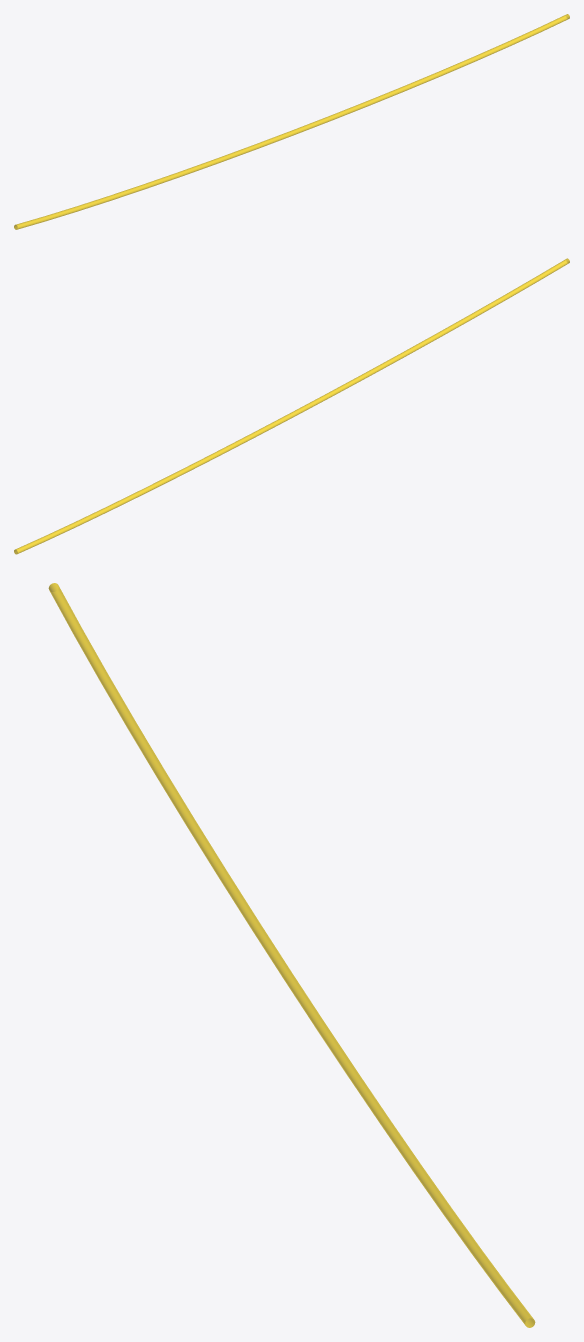
The model's file is Event_17758602_track_166.fbx.
3 renders of one model, top to bottom at view 1: azimuth 30°, elevation 25°; view 2: azimuth 210°, elevation 25°; view 3: azimuth 270°, elevation 25°, orthographic. The views are drawn at different scales.
Parts seen in each view (by area): view 1: Model; view 2: Model; view 3: Model.
Boxes of the visible parts, x1=… form: Model: x1=14, y1=14, x2=569, y2=229; Model: x1=14, y1=258, x2=569, y2=554; Model: x1=48, y1=583, x2=535, y2=1327.
Size of the model in its own units: 5.88 by 0.3784 by 1.84.
